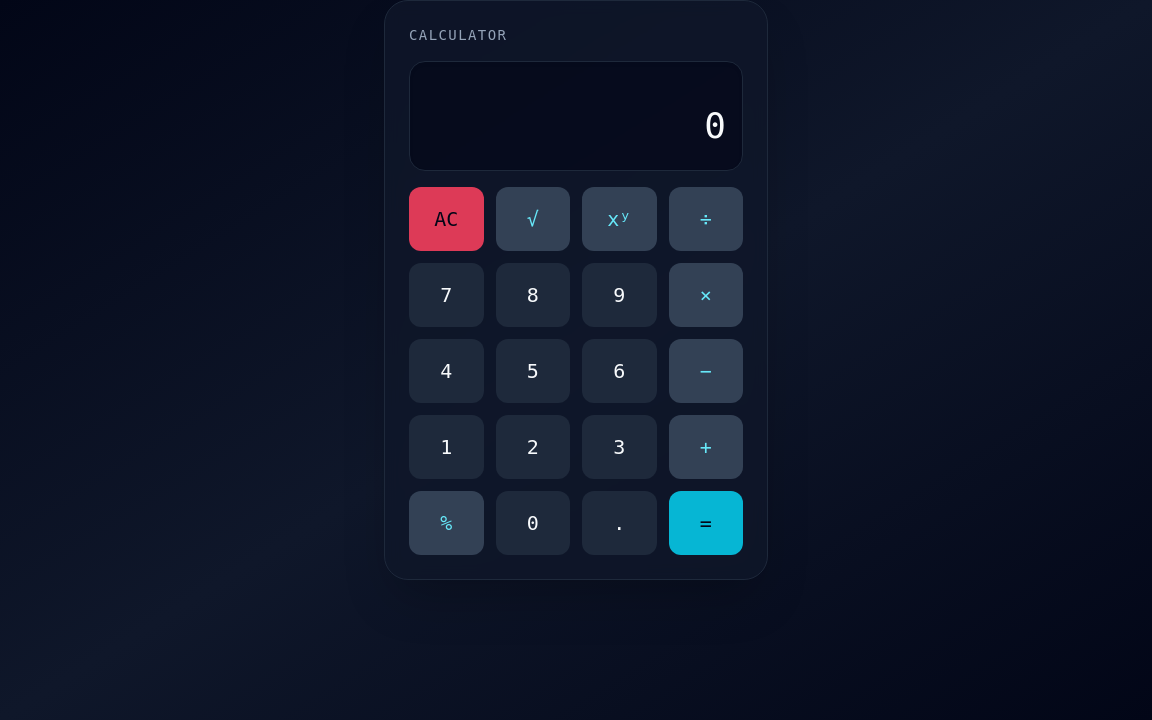
Test: <Calculator /> › wraps long error messages instead of overflowing the display
Click the button "1" at coordinates (446, 447), box [409,415,484,479]
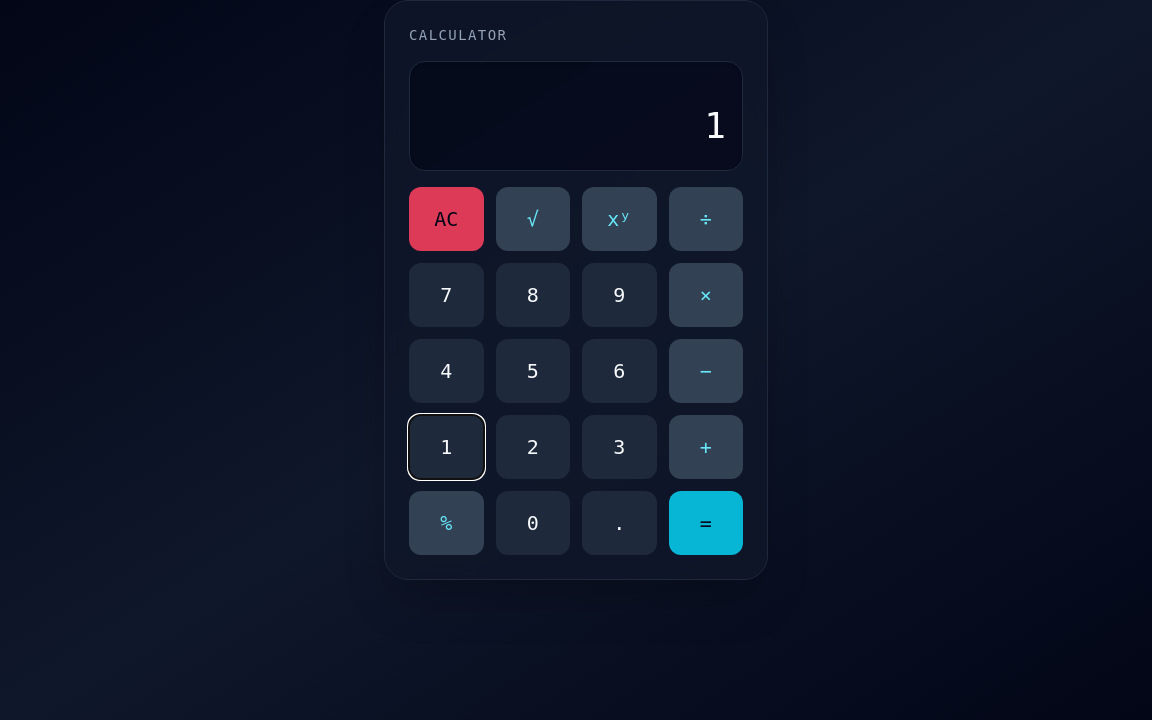
Click the button named "add" at coordinates (706, 447), box [668,415,743,479]
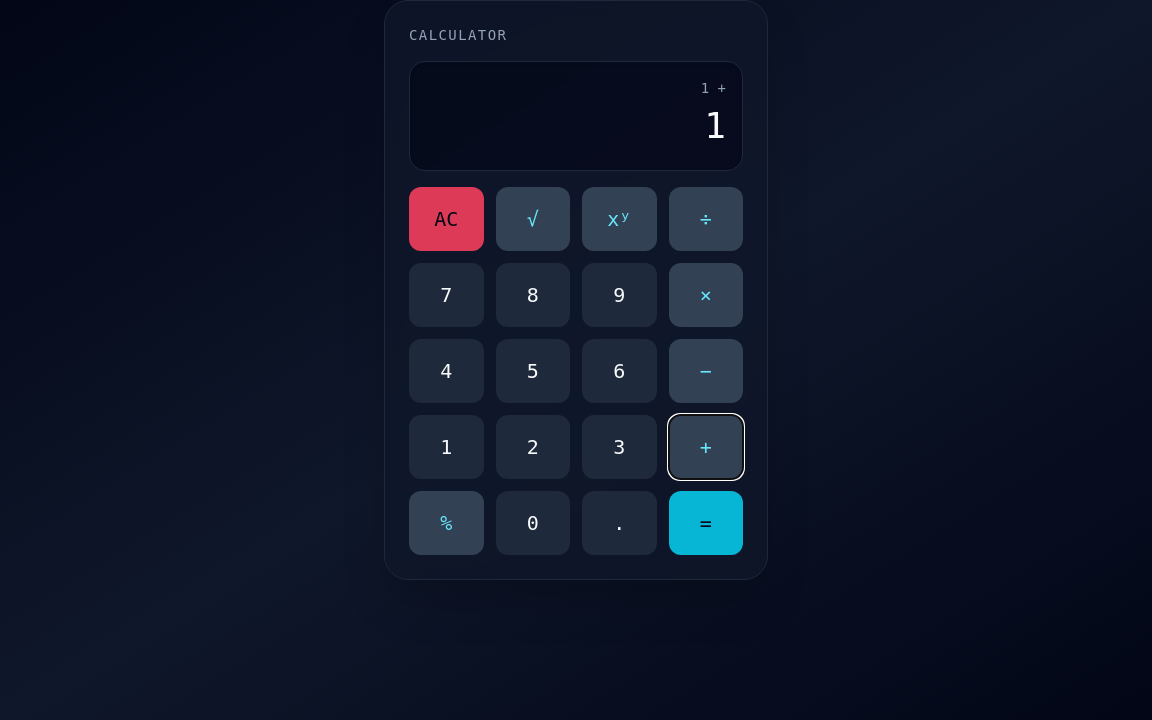
Click the button "2" at coordinates (533, 447), box [496,415,570,479]
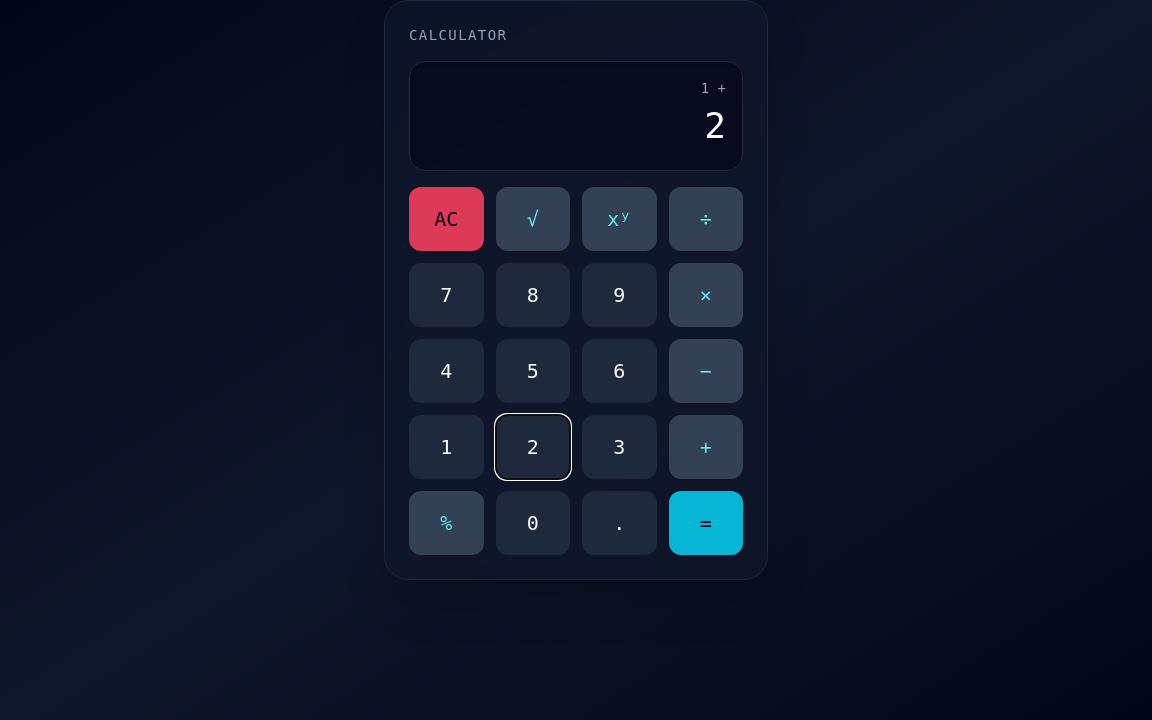
Click the button named "equals" at coordinates (706, 523), box [668,491,743,555]
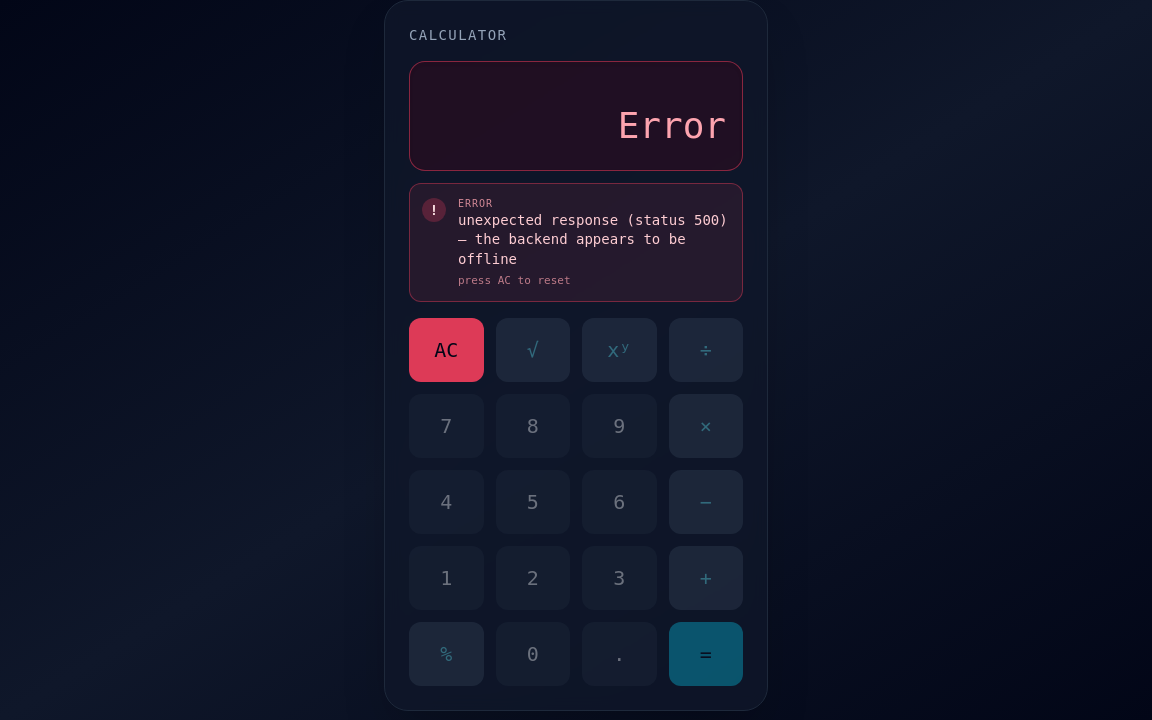
Now the text with test id "display" reads "Error", box [618,105,726,146]
Now the text with test id "error-message" reads "unexpected response (status 500) — the backend appears to be offline", box [458,212,728,266]
